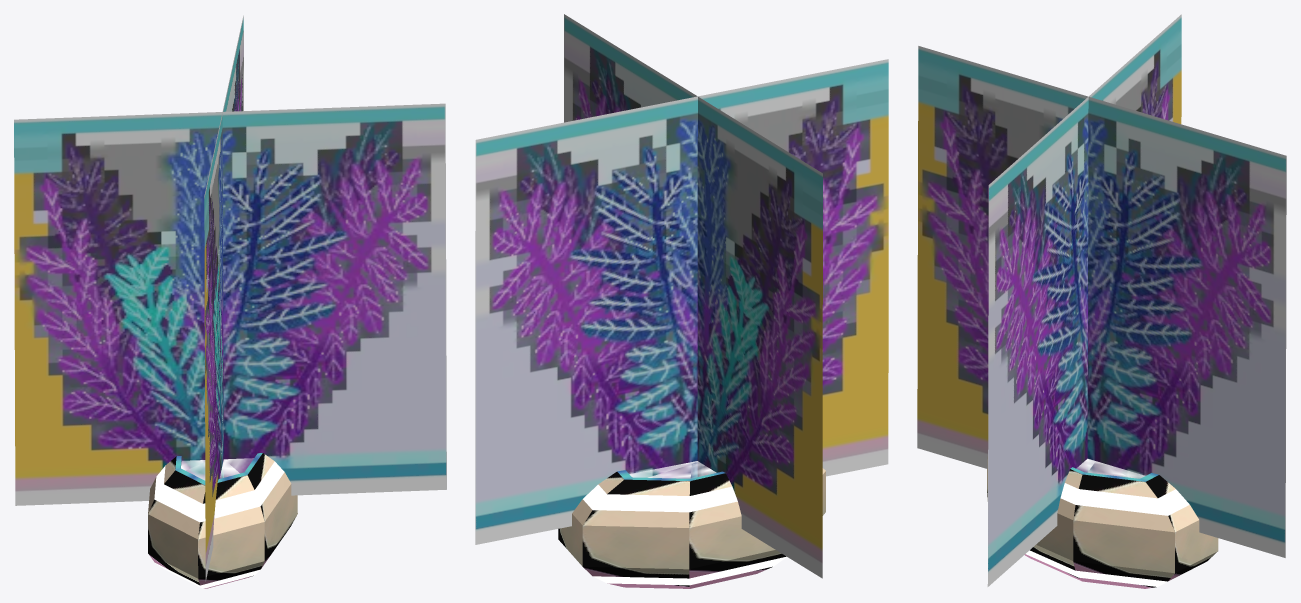
Rendered from pm-pot-vapor-04.glb.
3 views of the same model, side by side, from view 1: azimuth 30°, elevation 25°; view 2: azimuth 150°, elevation 25°; view 3: azimuth 270°, elevation 25° (orthographic). The views are drawn at different scales.
Visible parts, largest first — view 1: Pot_Vapor_04; view 2: Pot_Vapor_04; view 3: Pot_Vapor_04.
Part boxes in pixels (<box>): Pot_Vapor_04: <box>14,15,446,588</box>; Pot_Vapor_04: <box>475,14,888,588</box>; Pot_Vapor_04: <box>917,14,1286,588</box>.
Size of the model in its own units: 1.68 by 2.11 by 1.52.
Materials: 4 (4 with a texture image).
